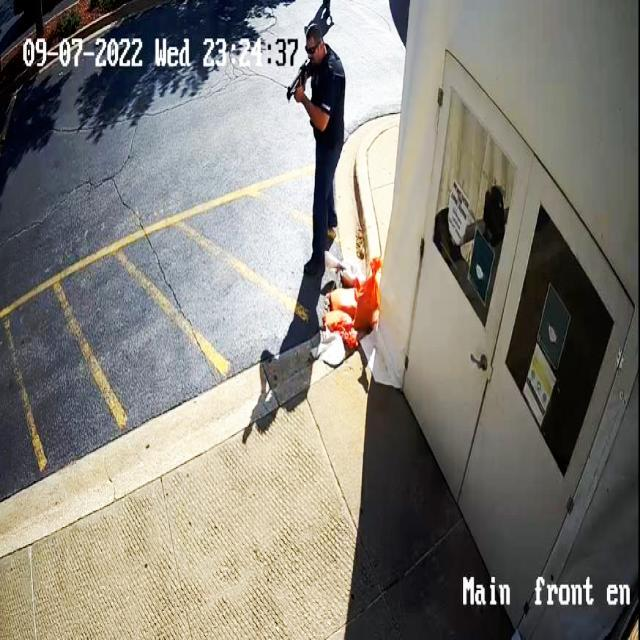Gun: (282, 63, 321, 109)
